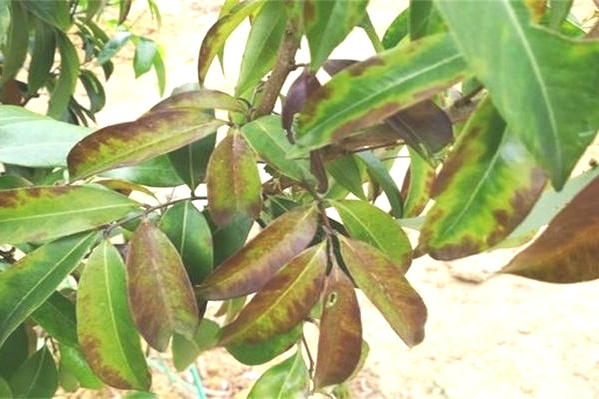Anthracnose: (221, 199, 402, 345), (66, 213, 203, 375), (45, 79, 227, 180), (258, 57, 421, 165), (496, 157, 598, 283), (407, 111, 492, 251)
